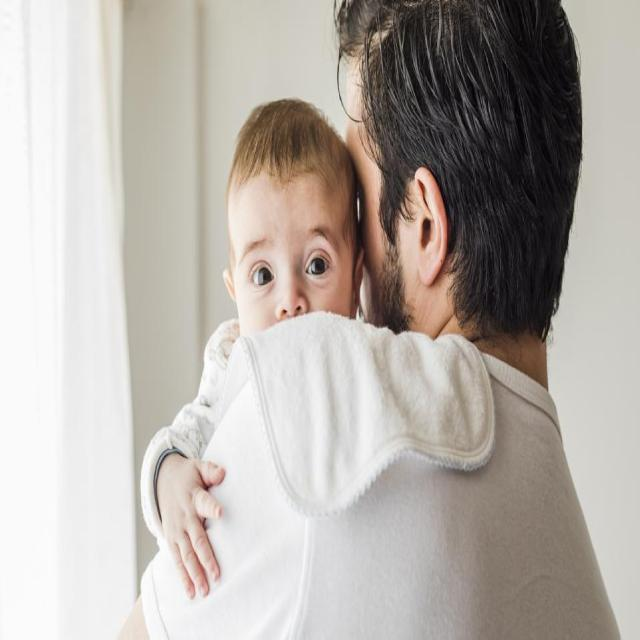non-dog: (118, 0, 622, 640), (144, 97, 370, 584)
